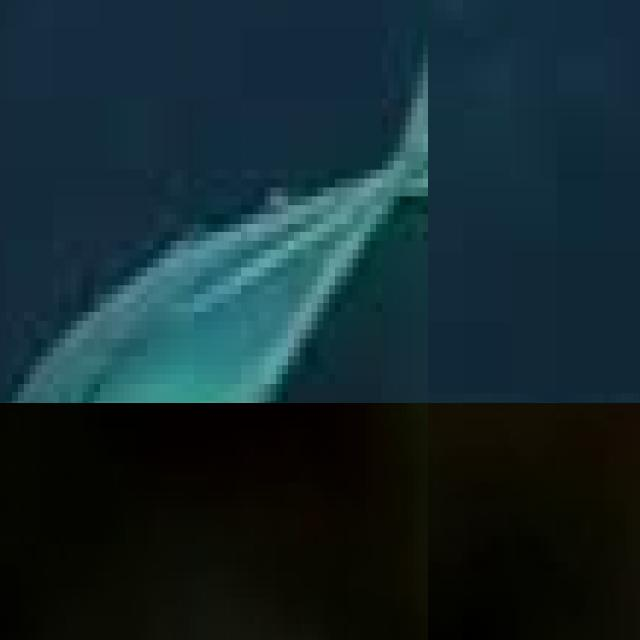fish: (0, 0, 428, 403)
